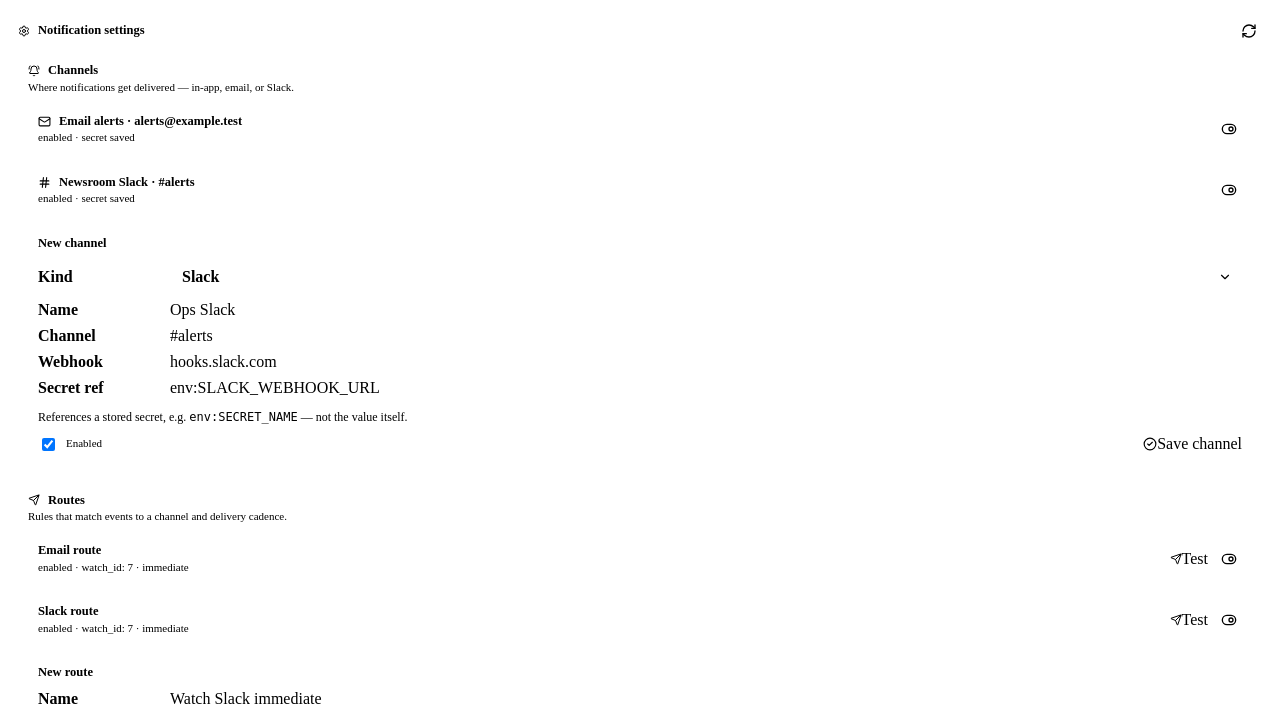
Test case: NotificationSettingsPanel configurable email › preserves configurable email by default
The width and height of the screenshot is (1280, 716).
Expected: the text "Email route" is shown, [38,544,101,558]
Select "Email" in the dropdown with test id "notification-channel-kind": {"x": 706, "y": 277} [170,260,1242,293]
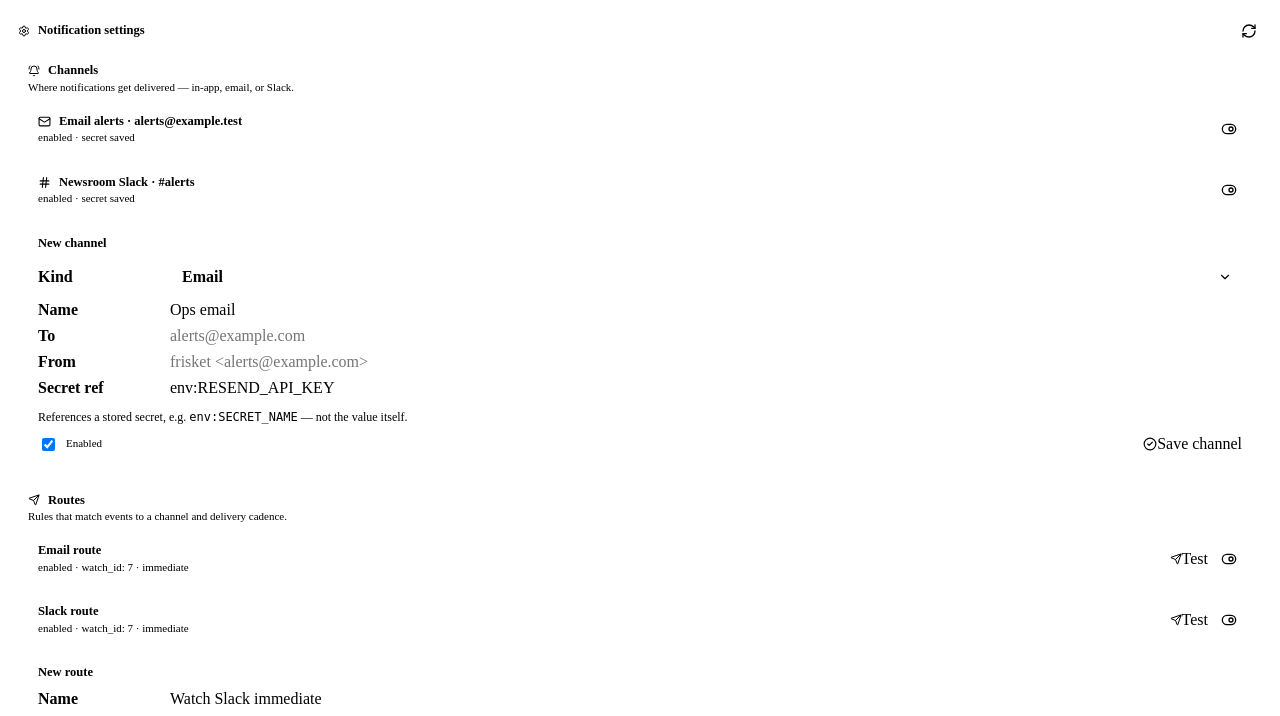
Result: the field named "Email to address" is shown at [170,327,1242,345]
Result: the field named "Email from address" is shown at [170,353,1242,371]
